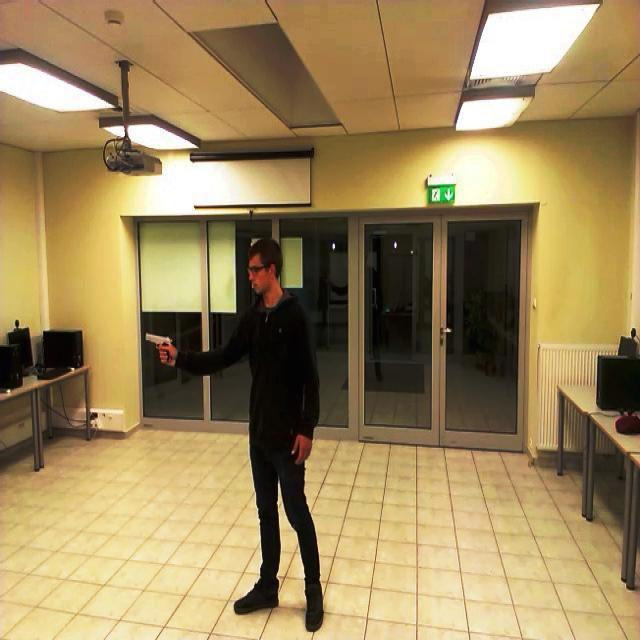Gun: (126, 315, 188, 368)
